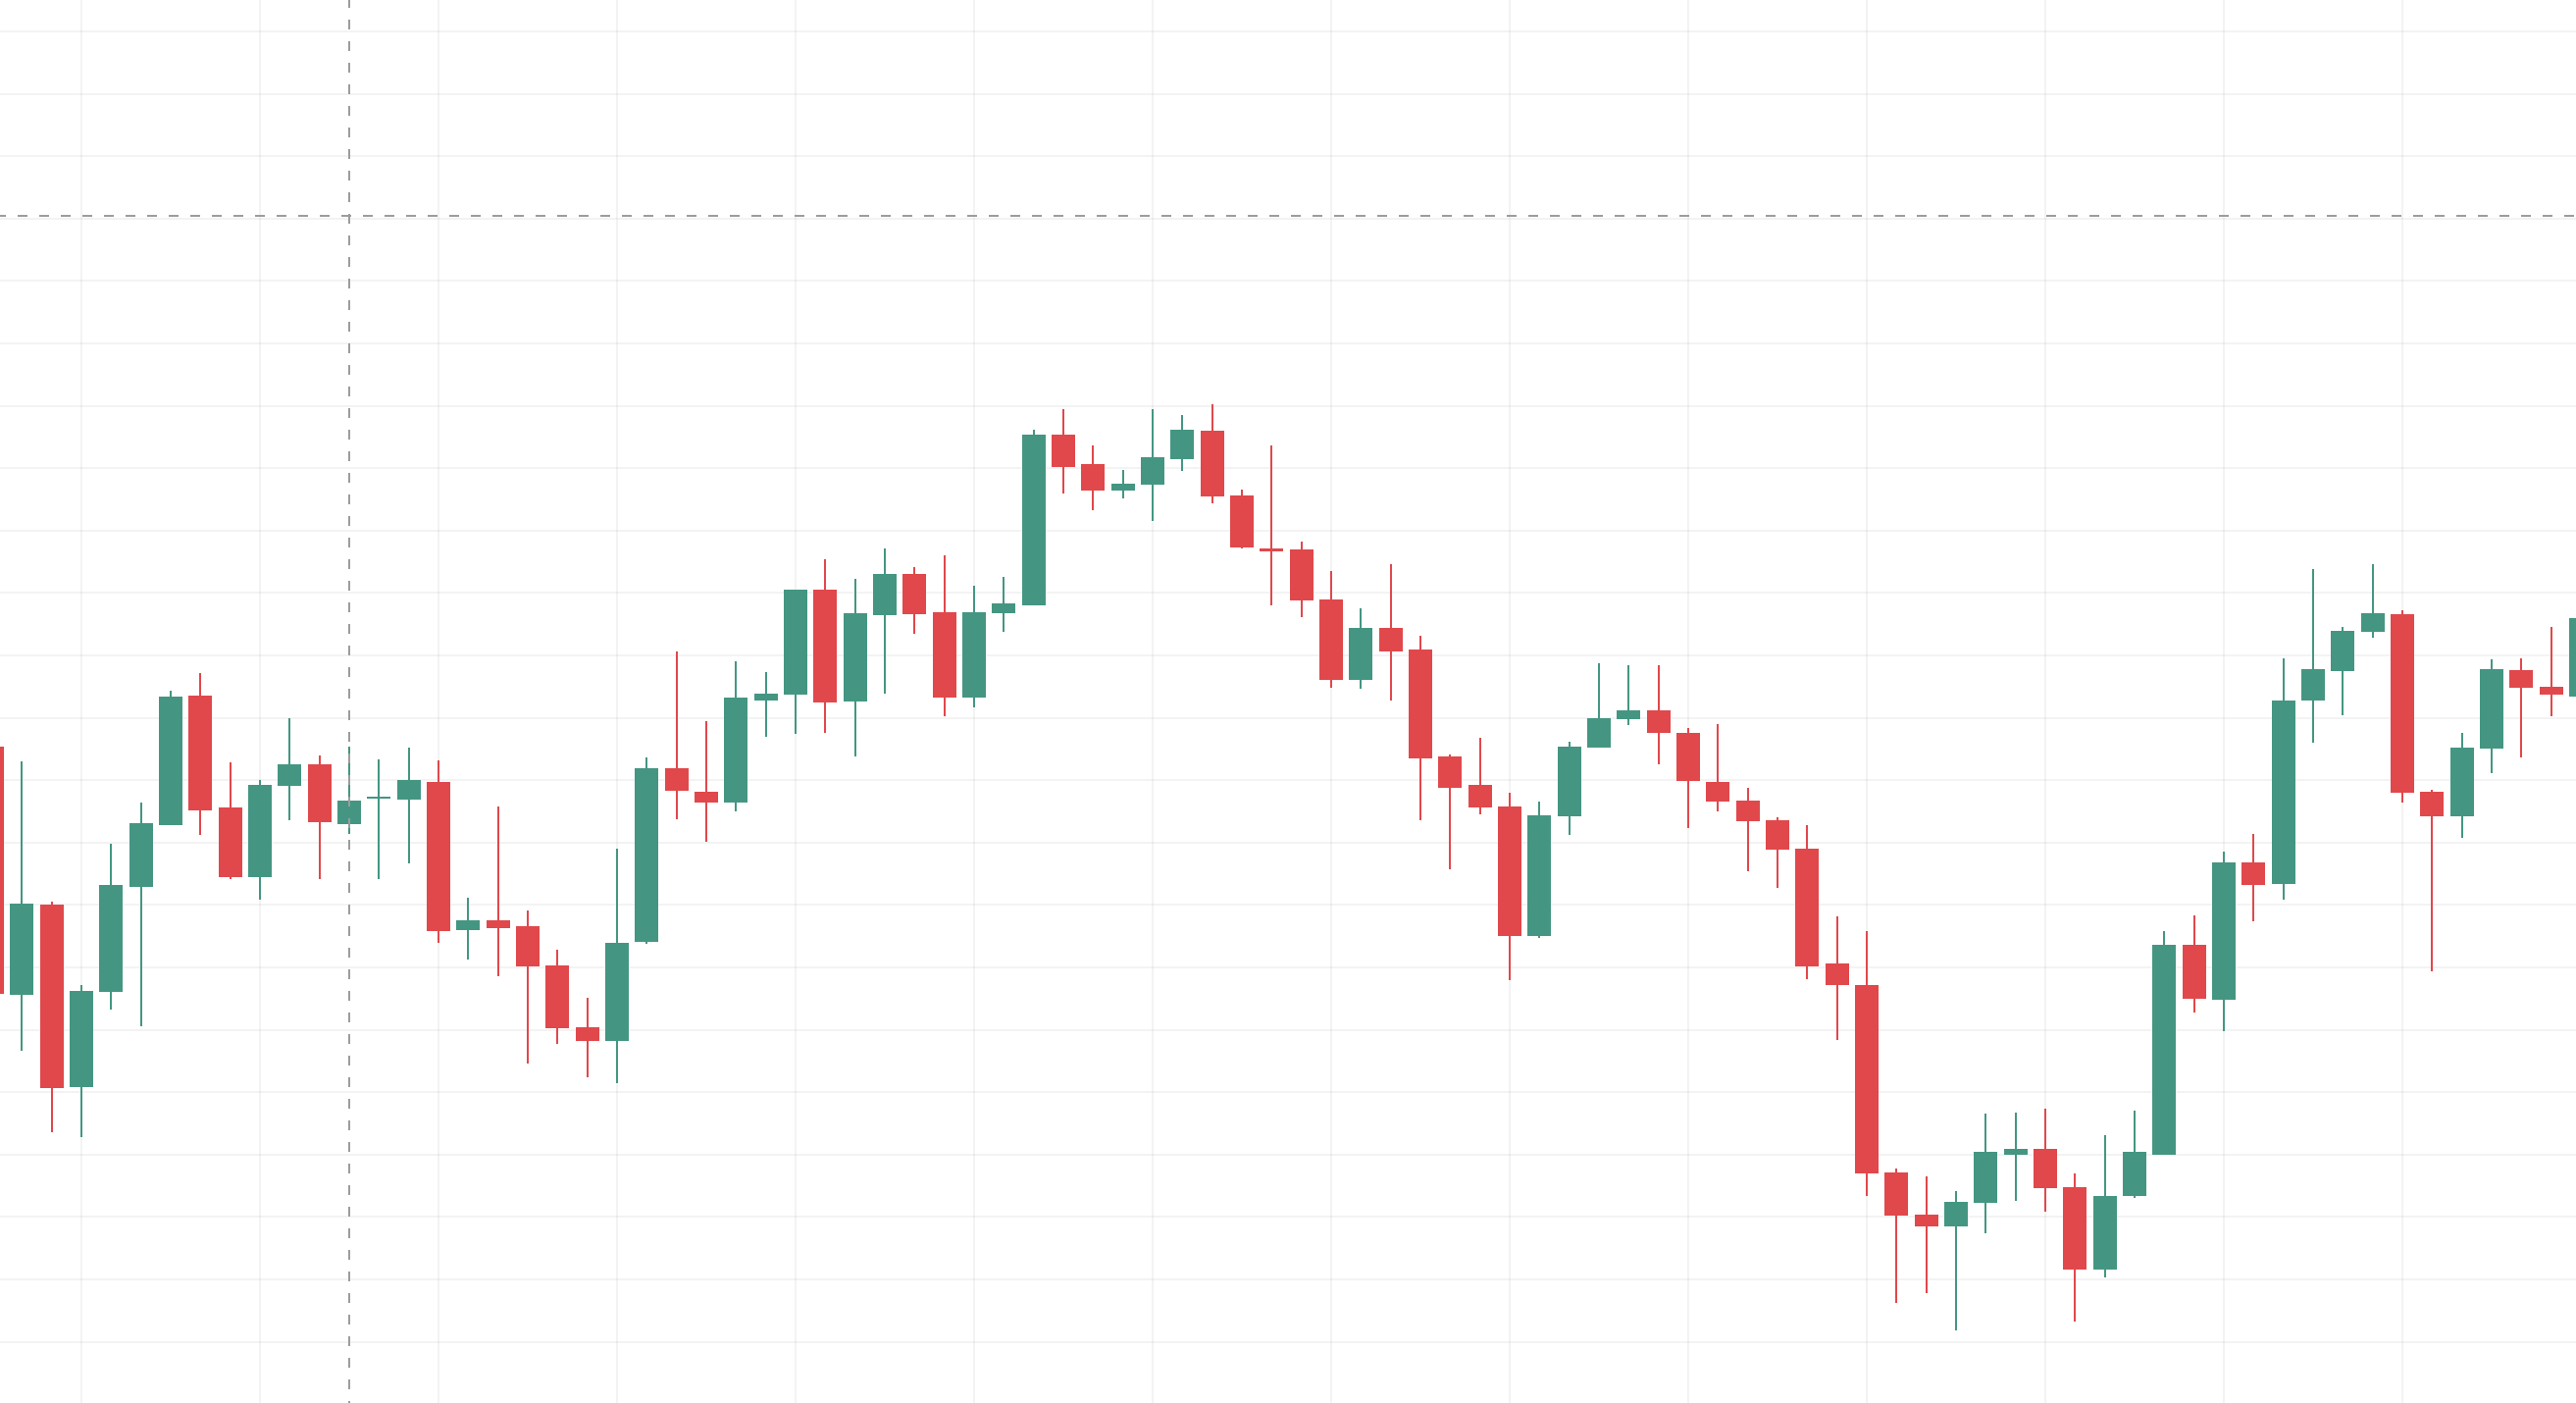V-turn: (329, 612, 664, 1109)
